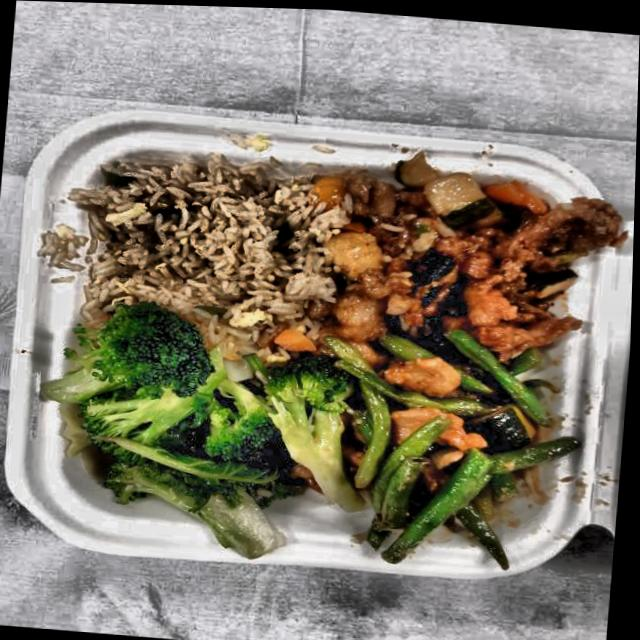Food: (45, 305, 327, 545), (319, 317, 579, 549), (315, 151, 603, 357), (69, 145, 338, 338)
